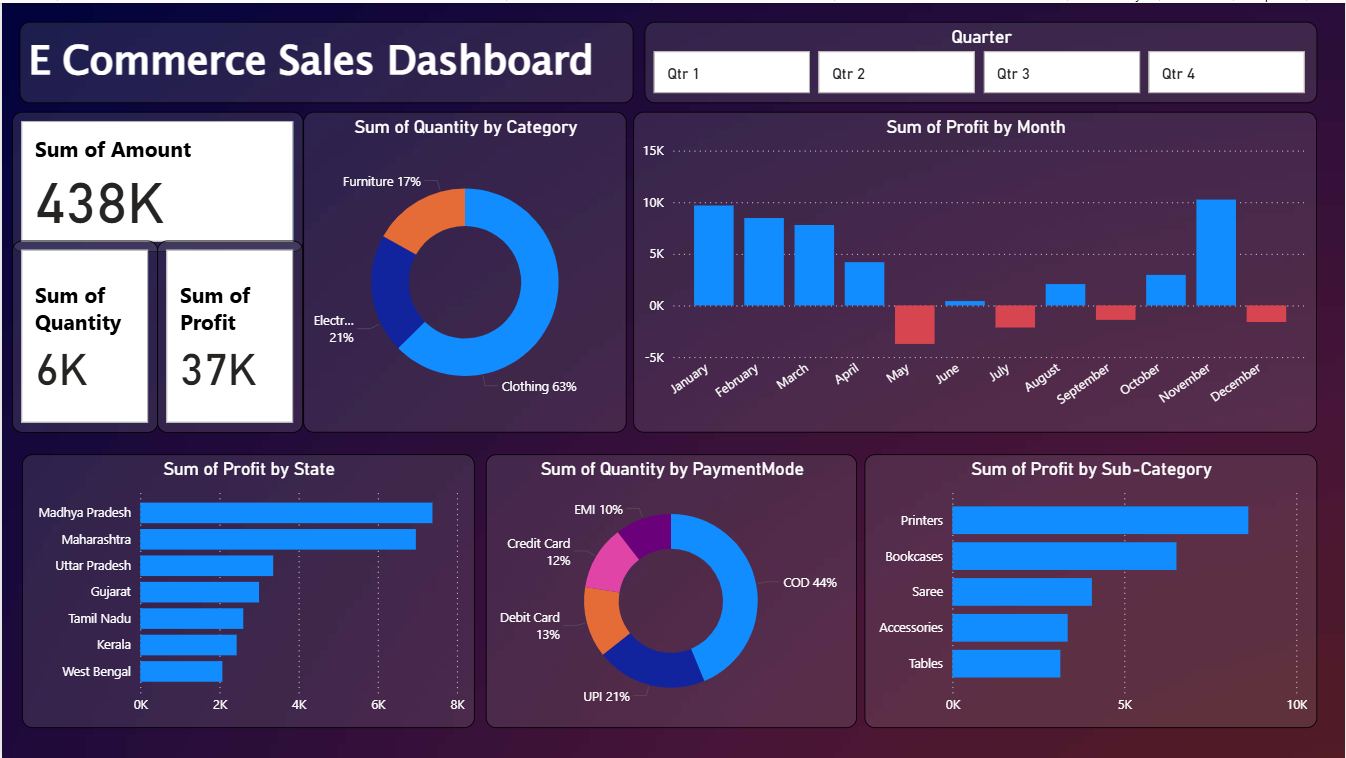

Layout of this report page (visuals, bound fields, positions):
{"tool":"powerbi","page":{"name":"Page 1","canvas":[1280,720],"ordinal":0},"visuals":[{"type":"textbox","box":[16.7,17.9,584.5,77.4],"z":0},{"type":"columnChart","fields":{"Y":["Sum(Details.Profit)"],"Category":["Orders.Order Date.Variation.Date Hierarchy.Month"]},"box":[601.2,103.6,651.2,306],"z":1000},{"type":"barChart","fields":{"Y":["Sum(Details.Profit)"],"Category":["Details.Sub-Category"]},"box":[821.4,429.8,431,260.7],"z":2000},{"type":"donutChart","fields":{"Y":["Sum(Details.Quantity)"],"Category":["Details.Category"]},"box":[286.9,103.6,308.3,306],"z":3000},{"type":"donutChart","fields":{"Y":["Sum(Details.Quantity)"],"Category":["Details.PaymentMode"]},"box":[460.7,429.8,353.6,260.7],"z":4000},{"type":"cardVisual","fields":{"Data":["Sum(Details.Amount)"]},"box":[9.5,103.6,277.4,133.3],"z":5000},{"type":"cardVisual","fields":{"Data":["Sum(Details.Quantity)"]},"box":[9.5,226.2,139.3,183.3],"z":6000},{"type":"cardVisual","fields":{"Data":["Sum(Details.Profit)"]},"box":[147.6,226.2,139.3,183.3],"z":7000},{"type":"barChart","fields":{"Y":["Sum(Details.Profit)"],"Category":["Orders.State"]},"box":[19,429.8,431,260.7],"z":8000},{"type":"advancedSlicerVisual","fields":{"Values":["Orders.Order Date.Variation.Date Hierarchy.Quarter"]},"box":[611.9,17.9,640.5,77.4],"z":9000}]}

Visuals, with their boxes in screenshot pixels (x1, y1, x2, y2), scaled from the page's 1280x720 canvas onto the 1346x758 screenshot:
textbox: {"left": 18, "top": 19, "right": 632, "bottom": 100}
columnChart - Sum(Details.Profit) x Orders.Order Date.Variation.Date Hierarchy.Month: {"left": 632, "top": 109, "right": 1317, "bottom": 431}
barChart - Sum(Details.Profit) x Details.Sub-Category: {"left": 864, "top": 452, "right": 1317, "bottom": 727}
donutChart - Sum(Details.Quantity) x Details.Category: {"left": 302, "top": 109, "right": 626, "bottom": 431}
donutChart - Sum(Details.Quantity) x Details.PaymentMode: {"left": 484, "top": 452, "right": 856, "bottom": 727}
cardVisual - Sum(Details.Amount): {"left": 10, "top": 109, "right": 302, "bottom": 249}
cardVisual - Sum(Details.Quantity): {"left": 10, "top": 238, "right": 156, "bottom": 431}
cardVisual - Sum(Details.Profit): {"left": 155, "top": 238, "right": 302, "bottom": 431}
barChart - Sum(Details.Profit) x Orders.State: {"left": 20, "top": 452, "right": 473, "bottom": 727}
advancedSlicerVisual - Orders.Order Date.Variation.Date Hierarchy.Quarter: {"left": 643, "top": 19, "right": 1317, "bottom": 100}
